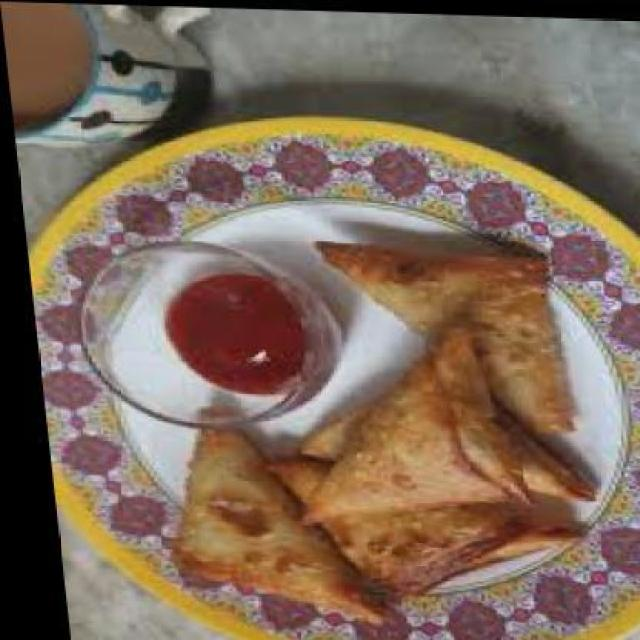samosa: (272, 303, 525, 528), (308, 238, 566, 432), (148, 404, 372, 622), (252, 454, 580, 597), (274, 380, 586, 497)
